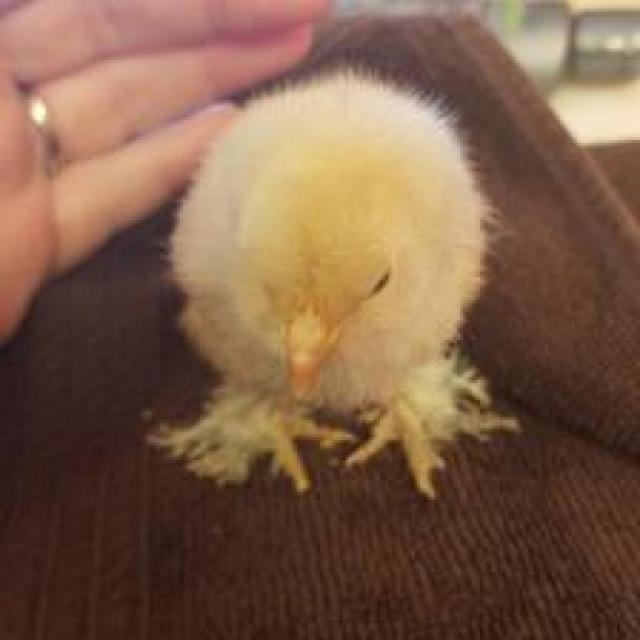Chicken: (156, 64, 530, 508)
